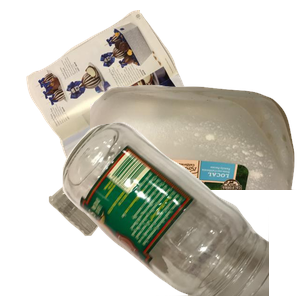glass: (60, 120, 300, 300)
paper: (24, 10, 235, 190)
plastic: (90, 82, 300, 262)
trash: (46, 144, 188, 300)
